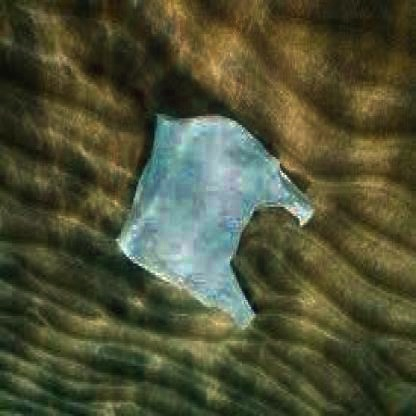pbag: (115, 109, 315, 334)
